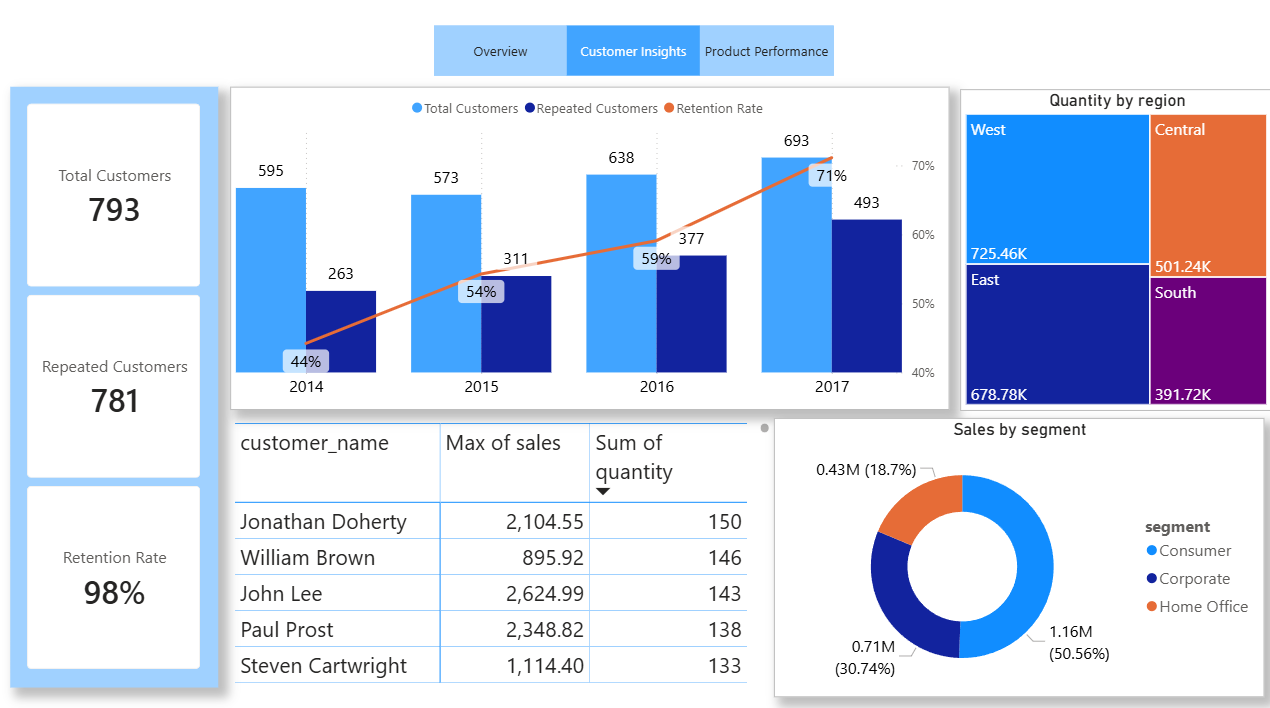

The dashboard page shown, as its layout file describes it:
{"tool":"powerbi","page":{"name":"Customer Insights","canvas":[1280,720],"ordinal":1},"visuals":[{"type":"pivotTable","fields":{"Values":["Max(orders.sales)","Sum(orders.quantity)"],"Rows":["orders.customer_name"]},"box":[0,410.3,602.3,302],"z":0},{"type":"cardVisual","fields":{"Data":["orders.Total Customers","orders.Repeated Customers"]},"box":[15.9,117.4,256.5,272.5],"z":1000},{"type":"barChart","title":"Customers shipping mode preferences","fields":{"Category":["orders.ship_mode"],"Y":["CountNonNull(orders.customer_id)"]},"box":[285.5,117.4,517.4,273.9],"z":2000},{"type":"donutChart","title":"Sales by segment","fields":{"Category":["orders.segment"],"Y":["Sum(orders.sales)"]},"box":[640.7,410.3,597.1,309],"z":3000},{"type":"treemap","title":"Quantity by region","fields":{"Group":["orders.region"],"Values":["Sum(orders.sales)"]},"box":[817.4,117.4,420.3,272.5],"z":4000},{"type":"pageNavigator","box":[440.2,37.8,400,50],"z":5000}]}

Visuals, with their boxes in screenshot pixels (x1, y1, x2, y2), scaled from the page's 1280x720 canvas onto the 1270x708 screenshot:
pivotTable - Max(orders.sales) x Sum(orders.quantity): bbox(0, 403, 598, 700)
cardVisual - orders.Total Customers x orders.Repeated Customers: bbox(16, 115, 270, 383)
"Customers shipping mode preferences" barChart: bbox(283, 115, 797, 385)
"Sales by segment" donutChart: bbox(636, 403, 1228, 707)
"Quantity by region" treemap: bbox(811, 115, 1228, 383)
pageNavigator: bbox(437, 37, 834, 86)
